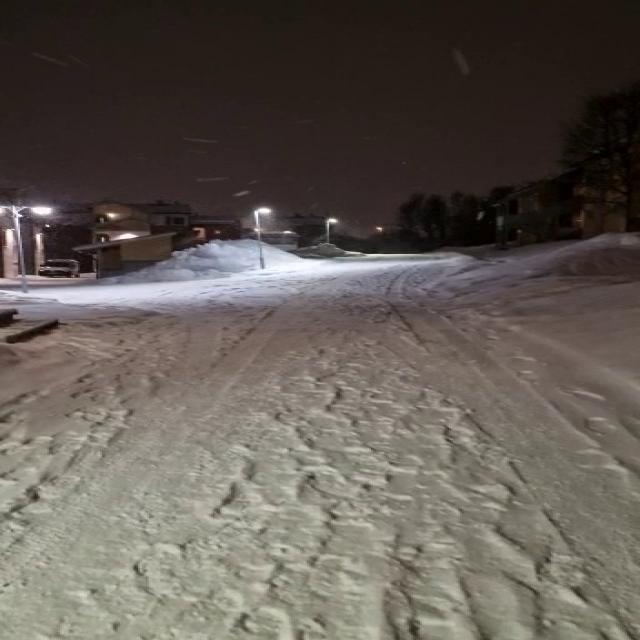path: (0, 252, 640, 640)
